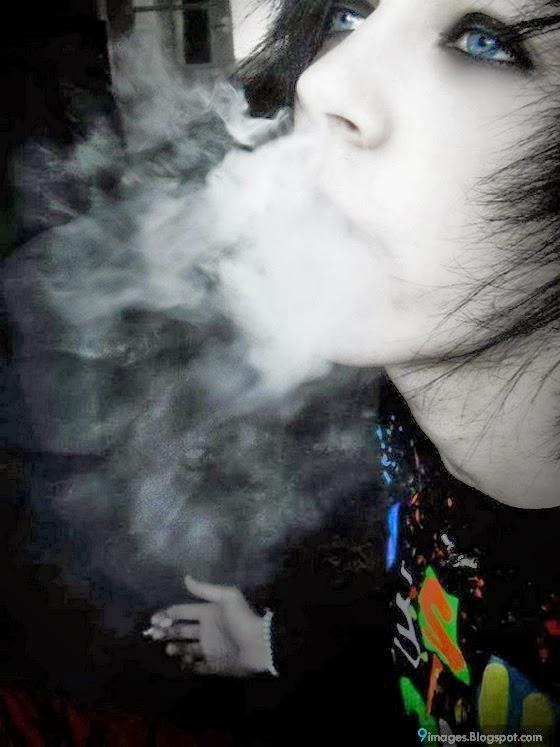smoking: (139, 592, 177, 649)
